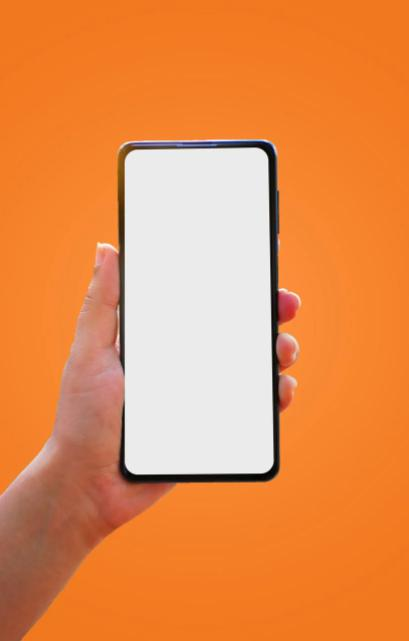mobile: (120, 142, 279, 483)
